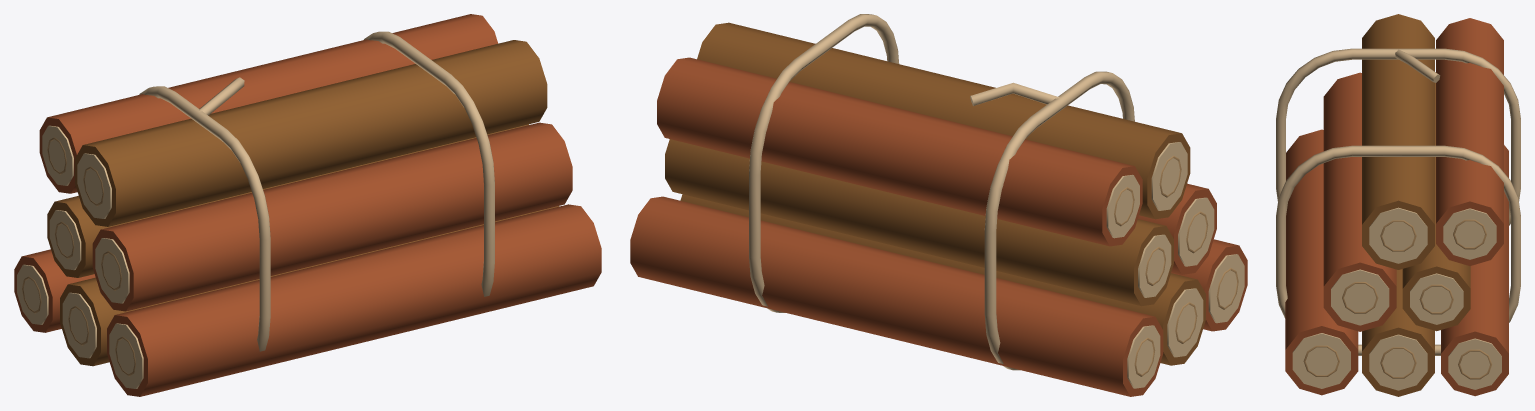
File: firewood.fbx
The picture shows the model from 3 angles, left to right: view 1: azimuth 30°, elevation 25°; view 2: azimuth 150°, elevation 25°; view 3: azimuth 270°, elevation 25°; orthographic projection. The views are drawn at different scales.
Visible parts, largest first — view 1: Firewood Bundle; view 2: Firewood Bundle; view 3: Firewood Bundle.
Boxes of the visible parts, <box> form: Firewood Bundle: <box>14,14,601,396</box>; Firewood Bundle: <box>630,14,1247,396</box>; Firewood Bundle: <box>1276,14,1520,396</box>.
Bounding box in the file's own units: 1.9 × 0.939 × 0.9581.
